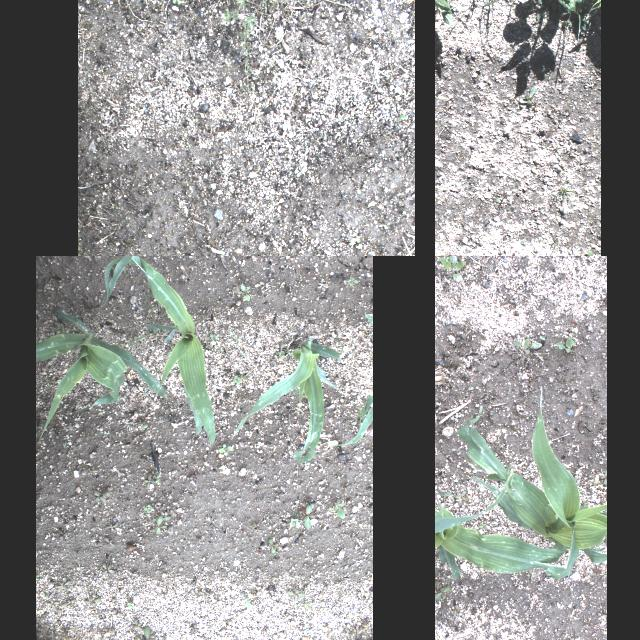crop: (459, 386, 606, 562), (435, 415, 579, 583), (100, 256, 216, 446), (36, 306, 168, 439), (232, 340, 342, 462), (337, 313, 373, 445), (528, 0, 596, 41), (458, 482, 504, 522), (468, 477, 498, 493), (589, 0, 601, 13)
weed: (220, 0, 277, 92), (553, 178, 577, 214), (437, 256, 467, 284), (511, 336, 541, 354), (550, 336, 576, 354), (151, 516, 171, 536), (519, 86, 537, 108), (454, 487, 471, 507), (303, 502, 315, 530), (286, 588, 306, 602), (482, 0, 516, 8), (92, 489, 108, 506), (435, 586, 451, 603), (140, 625, 156, 640), (142, 473, 156, 489), (333, 502, 345, 518), (534, 352, 550, 364), (240, 284, 250, 302), (218, 444, 235, 454), (456, 0, 477, 8), (198, 191, 208, 207), (55, 580, 71, 590), (245, 592, 253, 612), (269, 538, 279, 554), (449, 602, 459, 618), (83, 598, 101, 606), (347, 276, 359, 288), (348, 236, 362, 246), (102, 564, 116, 574), (132, 618, 142, 632), (232, 372, 242, 386), (355, 184, 367, 194), (142, 503, 152, 515), (289, 516, 299, 528), (105, 522, 117, 532), (46, 600, 60, 608), (125, 602, 136, 612), (104, 536, 115, 546), (600, 470, 606, 488), (208, 332, 218, 342), (188, 624, 198, 634), (294, 167, 302, 179), (36, 285, 48, 293), (435, 580, 441, 596), (476, 404, 484, 416), (62, 600, 76, 606), (478, 521, 486, 531), (587, 250, 600, 256), (278, 349, 286, 358), (77, 246, 84, 256), (152, 471, 158, 482), (142, 212, 150, 220), (594, 472, 598, 488), (154, 473, 160, 483), (200, 591, 210, 597), (171, 0, 182, 5), (140, 423, 146, 431), (466, 386, 474, 392), (306, 245, 312, 252), (520, 240, 526, 247), (108, 206, 118, 210), (302, 145, 308, 151), (42, 594, 48, 600), (61, 440, 67, 446), (36, 573, 38, 581), (540, 336, 544, 340)
